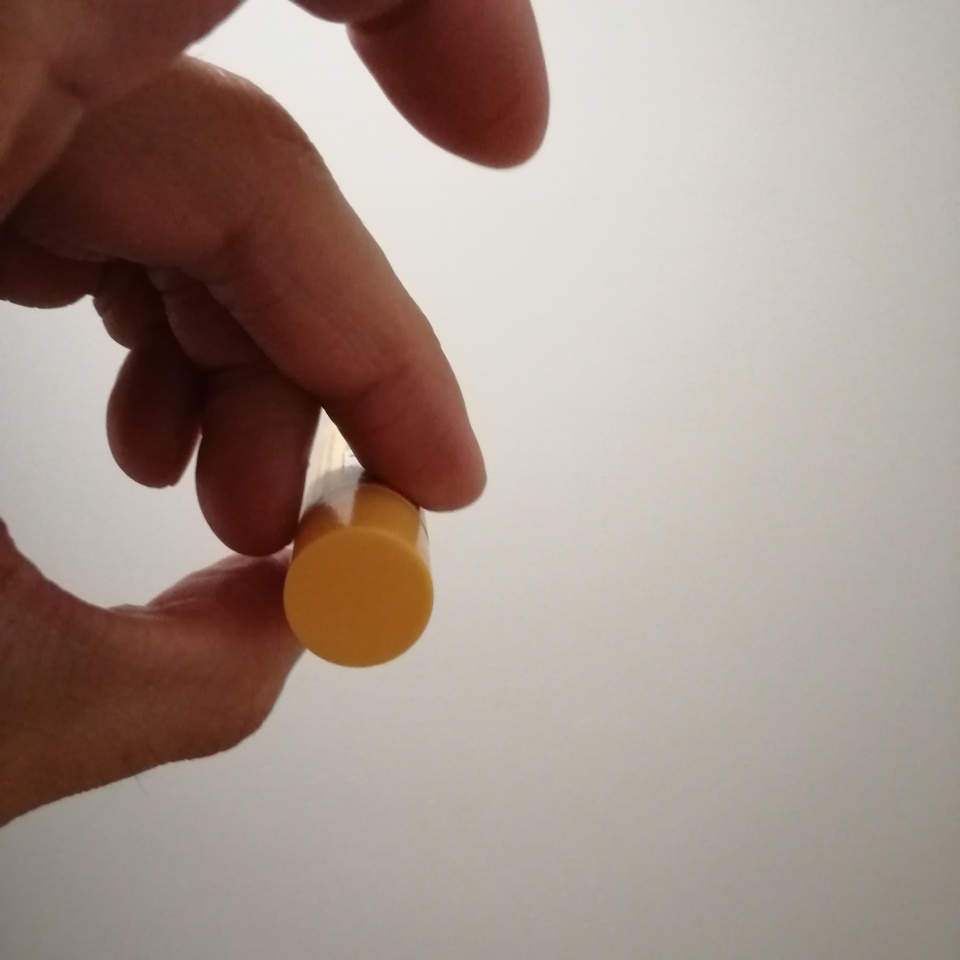chapstick: (279, 408, 436, 668)
